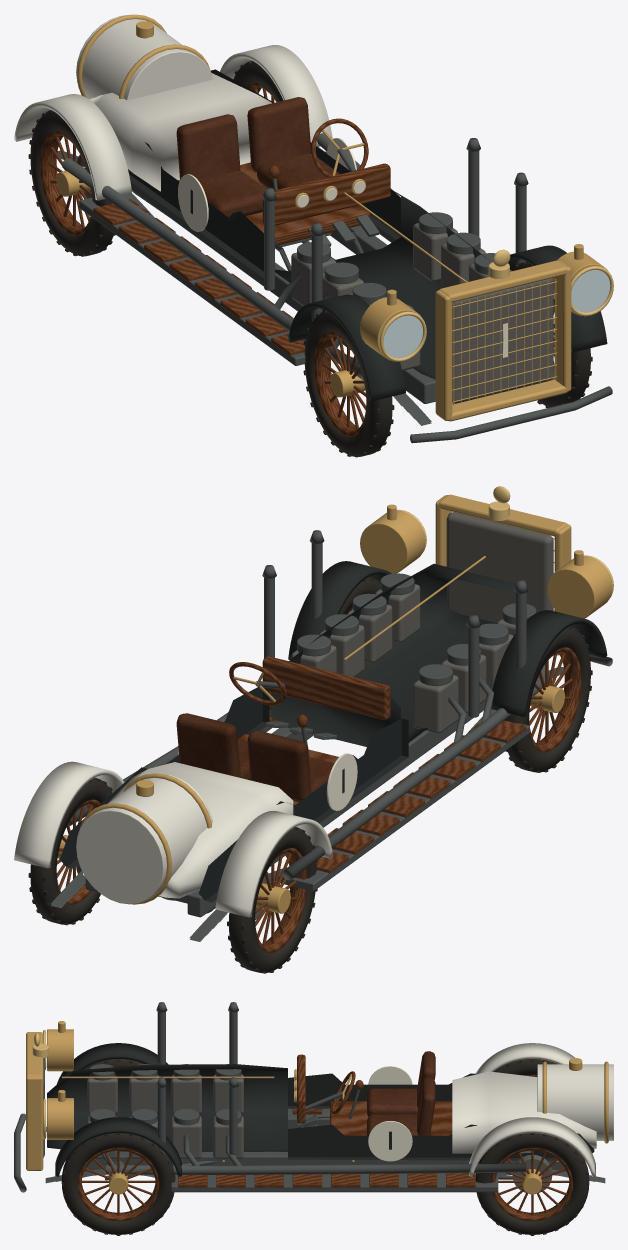
Rendered from Benz_1912_Racer_Concept_Detailed.fbx.
3 renders of one model, top to bottom at view 1: azimuth 30°, elevation 25°; view 2: azimuth 150°, elevation 25°; view 3: azimuth 270°, elevation 25°, orthographic. The views are drawn at different scales.
Visible parts, largest first — view 1: BENZ_Radiator_Core, BENZ_Rear_Deck, BENZ_Rear_Fuel_Tank, BENZ_Long_Hood, BENZ_Mudguard_1.7_-1, BENZ_Wheel_FL_Tire, BENZ_Mudguard_-1.65_-1, BENZ_Dashboard, BENZ_Exhaust_Header_-1, BENZ_Seat_Back_1, BENZ_Body_Side_-1, BENZ_Seat_Back_-1 (+45 smaller); view 2: BENZ_Long_Hood, BENZ_Rear_Fuel_Tank, BENZ_Radiator_Core, BENZ_Rear_Deck, BENZ_Mudguard_1.7_-1, BENZ_Mudguard_1.7_1, BENZ_Mudguard_-1.65_-1, BENZ_Dashboard, BENZ_Body_Side_-1, BENZ_Wheel_RL_Tire, BENZ_Exhaust_Header_-1, BENZ_Wheel_FL_Tire (+29 smaller); view 3: BENZ_Long_Hood, BENZ_Rear_Deck, BENZ_Wheel_FR_Tire, BENZ_Wheel_RR_Tire, BENZ_Rear_Fuel_Tank, BENZ_Body_Side_1, BENZ_Exhaust_Header_1, BENZ_RunningBoard_1, BENZ_Chassis_Rail_1, BENZ_Mudguard_1.7_1, BENZ_Mudguard_-1.65_1, BENZ_Body_Side_-1 (+43 smaller).
Boxes of the visible parts, <box> form: BENZ_Radiator_Core: <box>452,278,553,403</box>; BENZ_Rear_Deck: <box>90,73,271,191</box>; BENZ_Rear_Fuel_Tank: <box>76,14,212,100</box>; BENZ_Long_Hood: <box>275,188,488,379</box>; BENZ_Mudguard_1.7_-1: <box>14,94,131,200</box>; BENZ_Wheel_FL_Tire: <box>304,310,392,456</box>; BENZ_Mudguard_-1.65_-1: <box>288,294,405,401</box>; BENZ_Dashboard: <box>262,163,390,225</box>; BENZ_Exhaust_Header_-1: <box>62,158,363,379</box>; BENZ_Seat_Back_1: <box>247,97,311,172</box>; BENZ_Body_Side_-1: <box>128,142,263,277</box>; BENZ_Seat_Back_-1: <box>176,114,240,180</box>; BENZ_Long_Hood: <box>270,563,541,746</box>; BENZ_Rear_Fuel_Tank: <box>76,773,212,904</box>; BENZ_Radiator_Core: <box>446,512,553,622</box>; BENZ_Rear_Deck: <box>83,762,293,898</box>; BENZ_Mudguard_1.7_-1: <box>215,811,333,917</box>; BENZ_Mudguard_1.7_1: <box>14,761,124,868</box>; BENZ_Mudguard_-1.65_-1: <box>491,610,607,716</box>; BENZ_Dashboard: <box>262,656,390,719</box>; BENZ_Body_Side_-1: <box>198,718,408,902</box>; BENZ_Wheel_RL_Tire: <box>229,827,316,973</box>; BENZ_Exhaust_Header_-1: <box>283,673,549,880</box>; BENZ_Wheel_FL_Tire: <box>504,626,590,772</box>; BENZ_Long_Hood: <box>47,1064,287,1151</box>; BENZ_Rear_Deck: <box>452,1071,596,1153</box>; BENZ_Wheel_FR_Tire: <box>61,1133,175,1234</box>; BENZ_Wheel_RR_Tire: <box>475,1133,589,1234</box>; BENZ_Rear_Fuel_Tank: <box>537,1064,613,1140</box>; BENZ_Body_Side_1: <box>288,1124,594,1160</box>; BENZ_Exhaust_Header_1: <box>106,1163,526,1174</box>; BENZ_RunningBoard_1: <box>171,1173,498,1192</box>; BENZ_Chassis_Rail_1: <box>84,1151,566,1171</box>; BENZ_Mudguard_1.7_1: <box>469,1117,595,1176</box>; BENZ_Mudguard_-1.65_1: <box>55,1117,181,1176</box>; BENZ_Body_Side_-1: <box>288,1073,477,1108</box>.
Size of the model in its own units: 167 by 146 by 486.
Materials: 11 (2 with a texture image).
